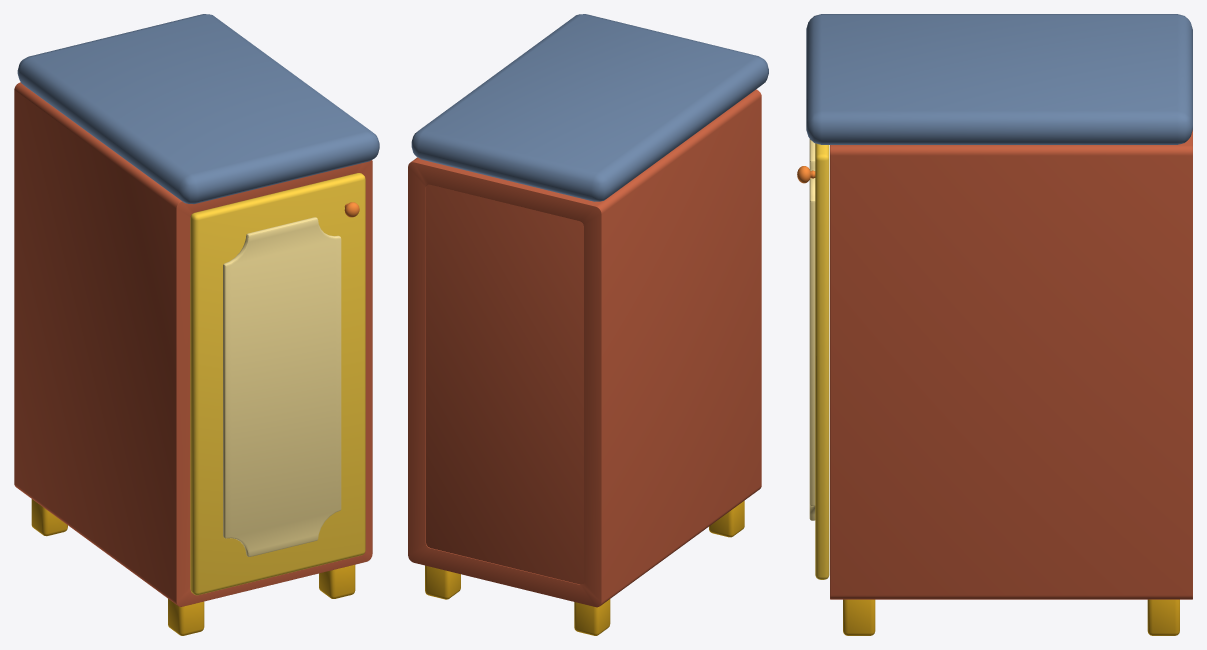
File: armario_cozinha_base_1porta_classica.glb
The picture shows the model from 3 angles, left to right: view 1: azimuth 30°, elevation 25°; view 2: azimuth 150°, elevation 25°; view 3: azimuth 270°, elevation 25°; orthographic projection. The views are drawn at different scales.
Parts seen in each view (by area): view 1: armario_cozinha_base_1porta_classica, porta_1; view 2: armario_cozinha_base_1porta_classica; view 3: armario_cozinha_base_1porta_classica, porta_1.
Part boxes in pixels (<box>): armario_cozinha_base_1porta_classica: <box>14,14,379,635</box>; porta_1: <box>190,173,365,595</box>; armario_cozinha_base_1porta_classica: <box>408,14,768,635</box>; armario_cozinha_base_1porta_classica: <box>806,14,1192,635</box>; porta_1: <box>797,139,829,579</box>.
Size of the model in its own units: 0.398 by 0.9 by 0.6131.
Materials: 1 (1 with a texture image).
